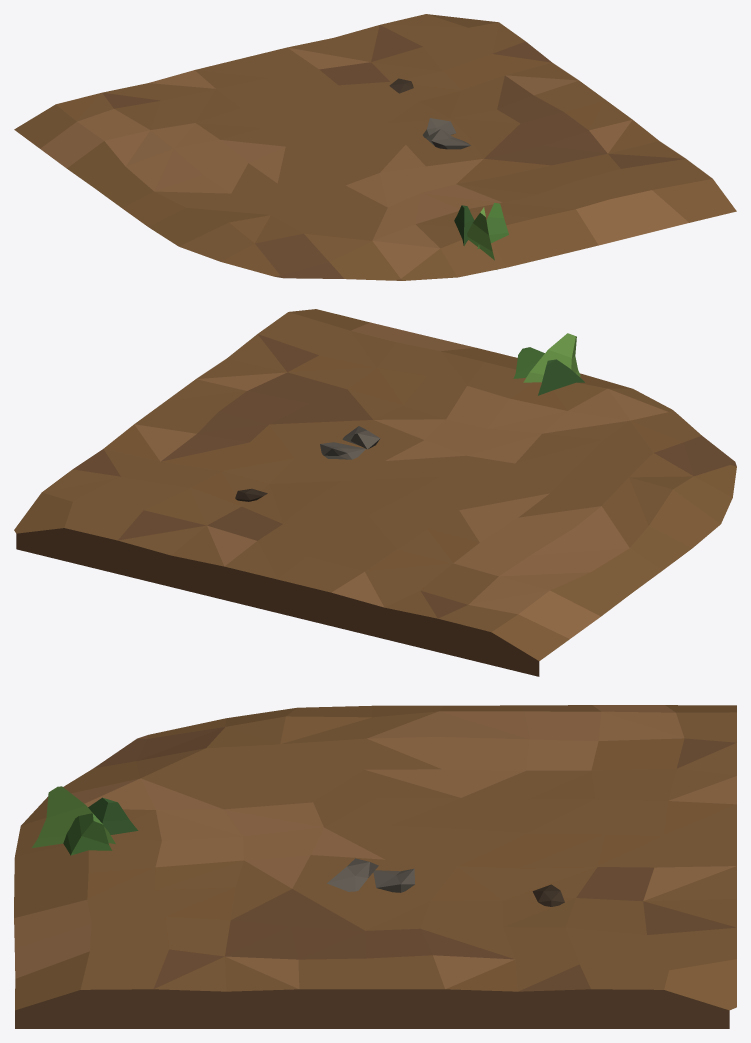
Rendered from mdvl_nature_path_corner_01.glb.
The picture shows the model from 3 angles, top to bottom: view 1: azimuth 30°, elevation 25°; view 2: azimuth 150°, elevation 25°; view 3: azimuth 270°, elevation 25°; orthographic projection. The views are drawn at different scales.
Visible parts, largest first — view 1: mdvl_nature_path_corner_01; view 2: mdvl_nature_path_corner_01; view 3: mdvl_nature_path_corner_01.
Part boxes in pixels (<box>): mdvl_nature_path_corner_01: <box>14,14,736,280</box>; mdvl_nature_path_corner_01: <box>14,309,736,676</box>; mdvl_nature_path_corner_01: <box>14,705,736,1028</box>.
Size of the model in its own units: 0.9909 by 0.1298 by 0.9912.
Materials: 1 (1 with a texture image).
